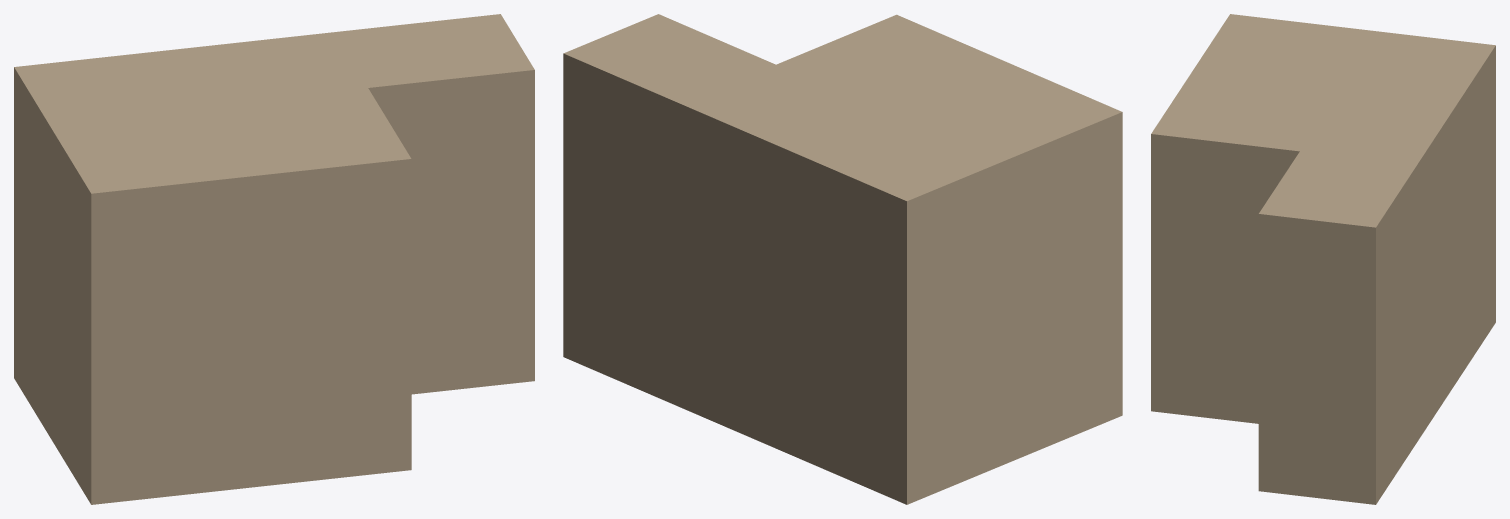
The model's file is bld_100469291.dae.
3 views of the same model, side by side, from view 1: azimuth 30°, elevation 25°; view 2: azimuth 150°, elevation 25°; view 3: azimuth 270°, elevation 25° (orthographic). The views are drawn at different scales.
Parts seen in each view (by area): view 1: bld_100469291; view 2: bld_100469291; view 3: bld_100469291.
Boxes of the visible parts, <box> form: bld_100469291: <box>14,14,534,504</box>; bld_100469291: <box>563,14,1122,504</box>; bld_100469291: <box>1151,14,1495,504</box>.
Bounding box in the file's own units: 13.22 × 9.01 × 8.
